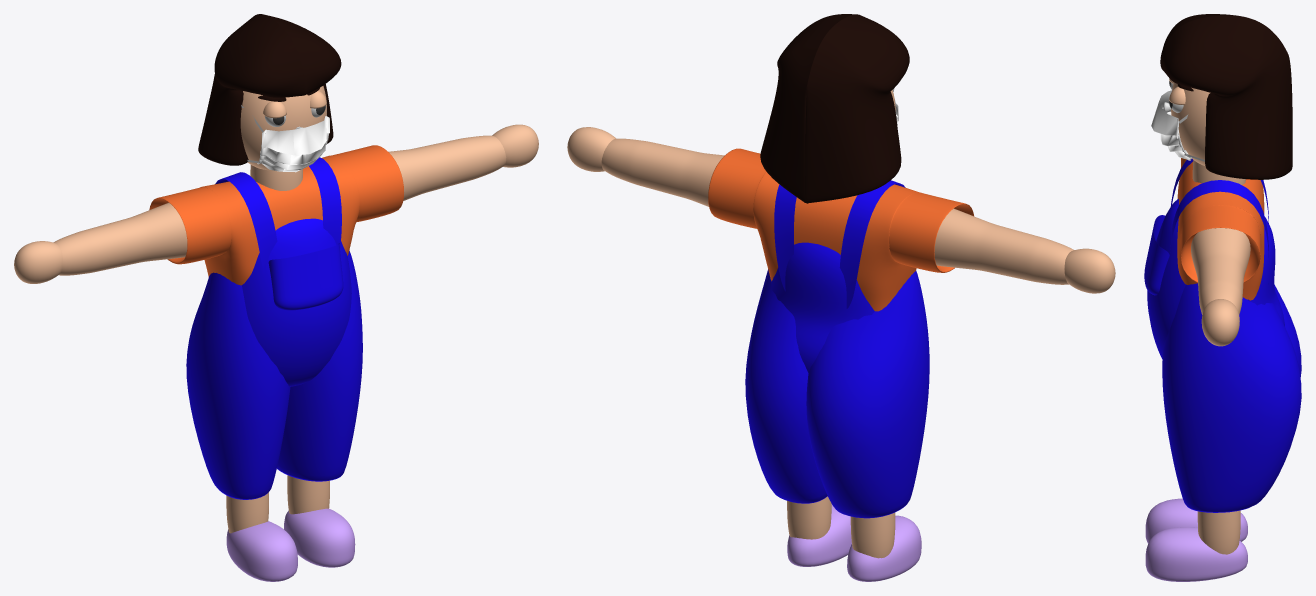
The model's file is Housewife.fbx.
3 renders of one model, left to right at view 1: azimuth 30°, elevation 25°; view 2: azimuth 150°, elevation 25°; view 3: azimuth 270°, elevation 25°, orthographic. The views are drawn at different scales.
Parts seen in each view (by area): view 1: Cube.009, Cube.008, Cube.047, Cube.013, Cube.010, Cube.029, Cube.002, Cube, Cube.015, Plane.001, Cube.012, Cube.037 (+1 smaller); view 2: Cube.009, Cube.047, Cube.008, Cube.013, Cube.010, Cube.029, Cube, Cube.015, Cube.012; view 3: Cube.009, Cube.047, Cube.029, Cube.008, Cube.010, Cube.013, Cube.037, Cube.012, Cube, Cube.015, Plane.001, Cube.002 (+2 smaller).
Part boxes in pixels (bbox=[...]): Cube.009: bbox=[186, 250, 362, 499]; Cube.008: bbox=[149, 145, 403, 285]; Cube.047: bbox=[198, 14, 341, 165]; Cube.013: bbox=[53, 135, 506, 275]; Cube.010: bbox=[242, 218, 351, 386]; Cube.029: bbox=[226, 508, 355, 581]; Cube.002: bbox=[268, 243, 343, 310]; Cube: bbox=[215, 157, 341, 273]; Cube.015: bbox=[14, 124, 538, 283]; Plane.001: bbox=[257, 116, 329, 172]; Cube.012: bbox=[226, 475, 329, 533]; Cube.037: bbox=[240, 86, 326, 170]; Cube.009: bbox=[745, 269, 929, 518]; Cube.047: bbox=[760, 14, 909, 203]; Cube.008: bbox=[708, 148, 973, 311]; Cube.013: bbox=[601, 138, 1074, 284]; Cube.010: bbox=[770, 242, 874, 372]; Cube.029: bbox=[787, 504, 921, 581]; Cube: bbox=[774, 180, 905, 308]; Cube.015: bbox=[567, 127, 1115, 293]; Cube.012: bbox=[787, 496, 895, 558]; Cube.009: bbox=[1162, 283, 1301, 512]; Cube.047: bbox=[1160, 14, 1292, 179]; Cube.029: bbox=[1145, 498, 1247, 581]; Cube.008: bbox=[1177, 158, 1264, 300]; Cube.010: bbox=[1147, 199, 1284, 359]; Cube.013: bbox=[1191, 228, 1250, 314]; Cube.037: bbox=[1171, 82, 1210, 166]; Cube.012: bbox=[1197, 510, 1240, 554]; Cube: bbox=[1170, 159, 1268, 284]; Cube.015: bbox=[1201, 299, 1239, 346]; Plane.001: bbox=[1151, 90, 1191, 160]; Cube.002: bbox=[1144, 215, 1169, 295].
Bounding box in the file's own units: 685 × 665 × 174.
